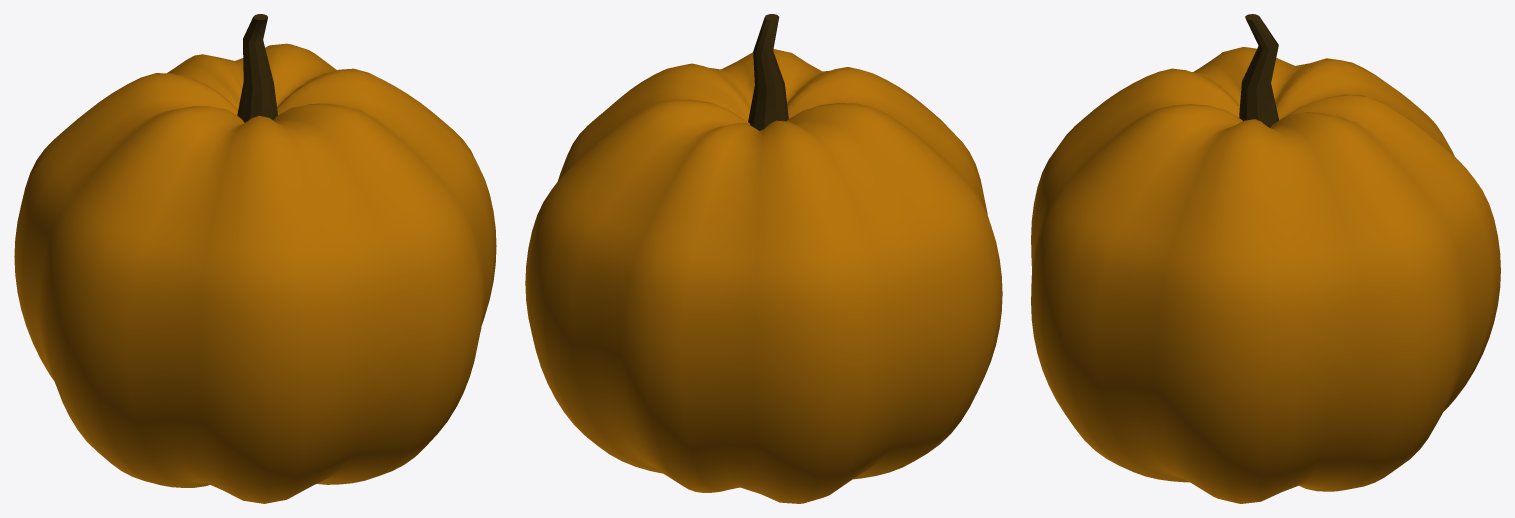
The model's file is Pumpkin.fbx.
The picture shows the model from 3 angles, left to right: view 1: azimuth 30°, elevation 25°; view 2: azimuth 150°, elevation 25°; view 3: azimuth 270°, elevation 25°; orthographic projection.
Visible parts, largest first — view 1: pSphere4; view 2: pSphere4; view 3: pSphere4.
Part boxes in pixels (left/top/right/bottom): pSphere4: left=14, top=14, right=496, bottom=503; pSphere4: left=525, top=14, right=1002, bottom=503; pSphere4: left=1031, top=14, right=1500, bottom=503.
Bounding box in the file's own units: 1.95 × 1.99 × 1.88.
